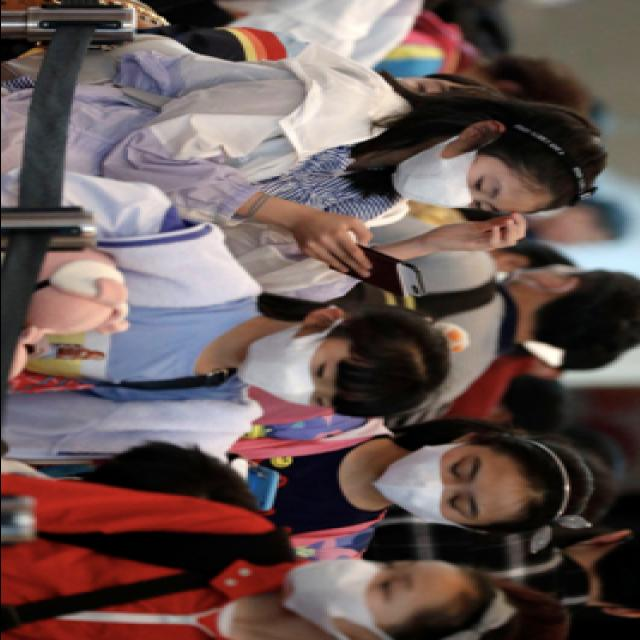mask: (242, 326, 362, 414), (376, 446, 498, 528), (285, 557, 429, 624), (393, 146, 515, 218)
